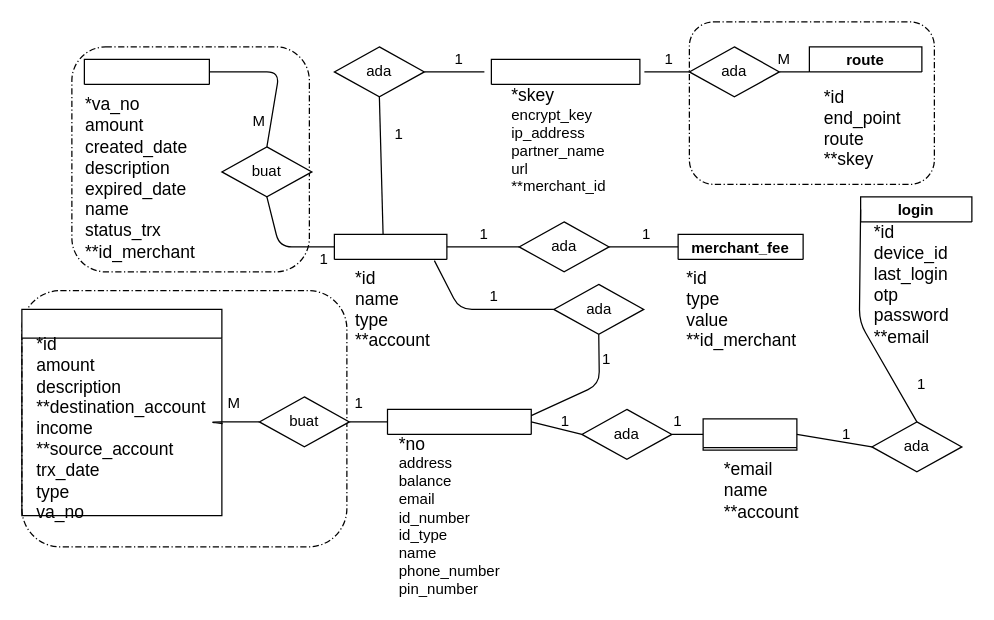
Some shapes in this 994 by 620 pixel diagram are drawn without their labels. Here are the shapes that lost their labels. From the top down, the box of each, then its label:
(83, 58, 209, 84): va
(490, 58, 640, 84): master_data
(333, 233, 447, 259): merchant
(21, 308, 222, 516): history
(386, 408, 531, 434): account_detail
(702, 418, 797, 450): login_detail
